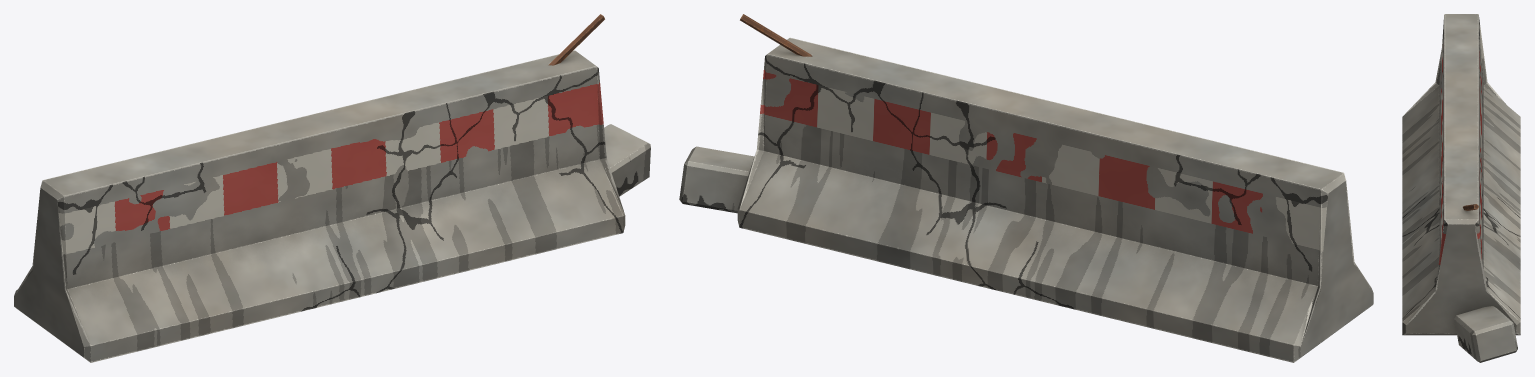
The model's file is Barrera_Hormigon.glb.
3 views of the same model, side by side, from view 1: azimuth 30°, elevation 25°; view 2: azimuth 150°, elevation 25°; view 3: azimuth 270°, elevation 25° (orthographic). The views are drawn at different scales.
Visible parts, largest first — view 1: Barrera_Hormigon; view 2: Barrera_Hormigon; view 3: Barrera_Hormigon.
Boxes of the visible parts, x1,y1,x2,y2 form: Barrera_Hormigon: [14, 14, 650, 362]; Barrera_Hormigon: [679, 14, 1373, 362]; Barrera_Hormigon: [1402, 14, 1520, 362].
Bounding box in the file's own units: 11.31 × 3.26 × 2.4.
1 material, 1 textured.
